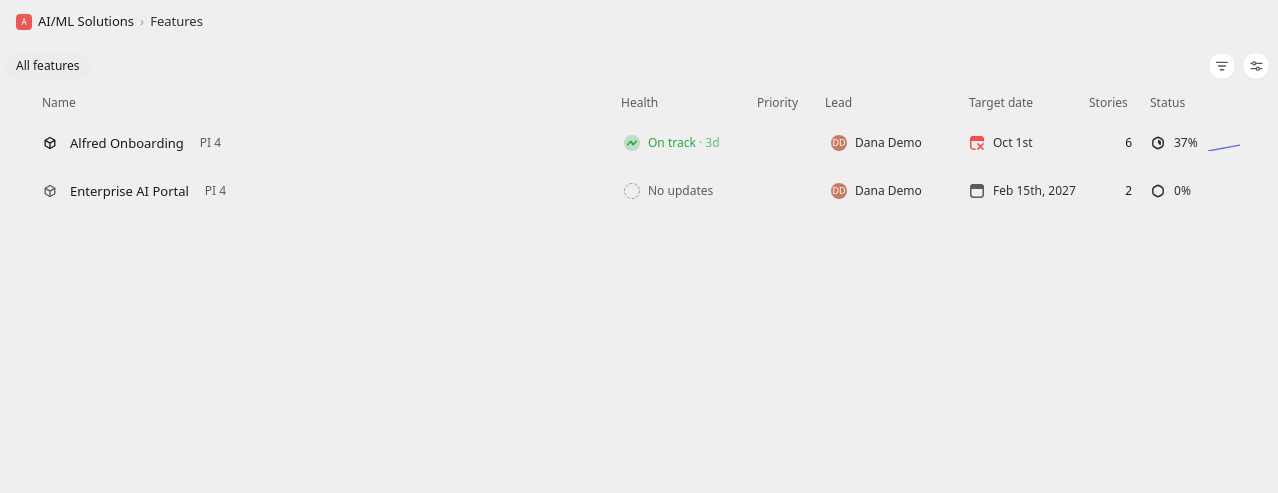
Test: the Filter menu lists the spec's fields in order and filters the rows
This screenshot has width=1278, height=493.
Click the button named "Add filter".
click(1222, 66)  # box 1208,52 -> 1236,80
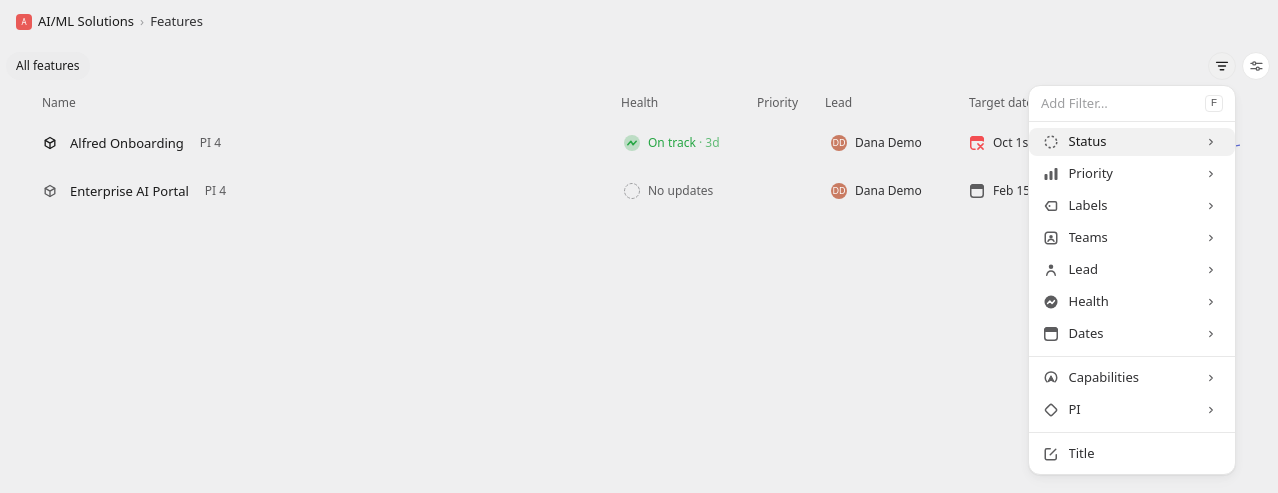
Hover over the menu item "Dates".
mouse_move(1086, 333)  # box 1042,324 -> 1217,342
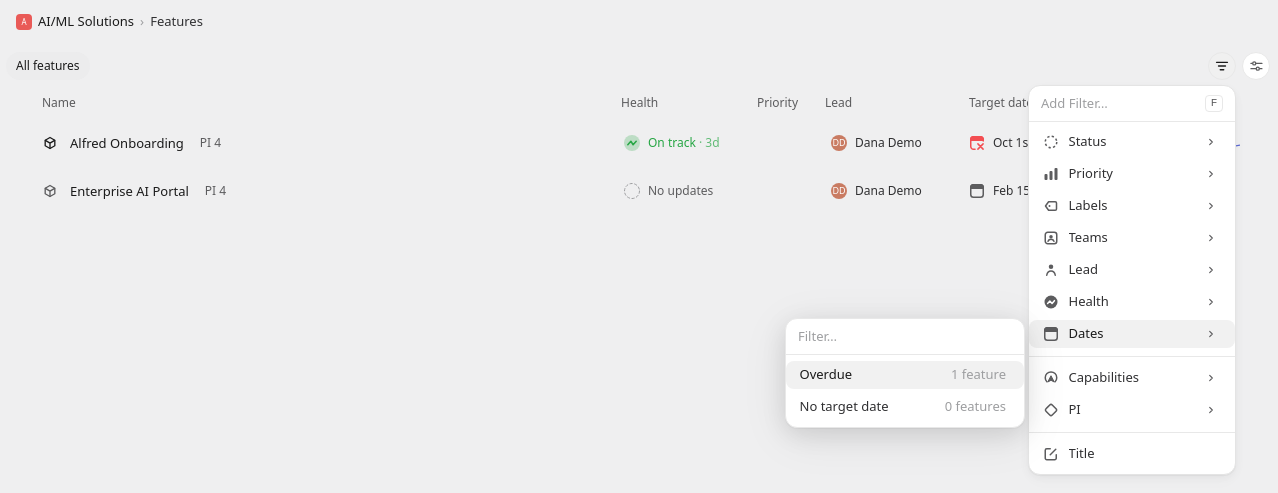
Click the menu item "Overdue 1 feature".
click(826, 374)  # box 800,365 -> 1006,383
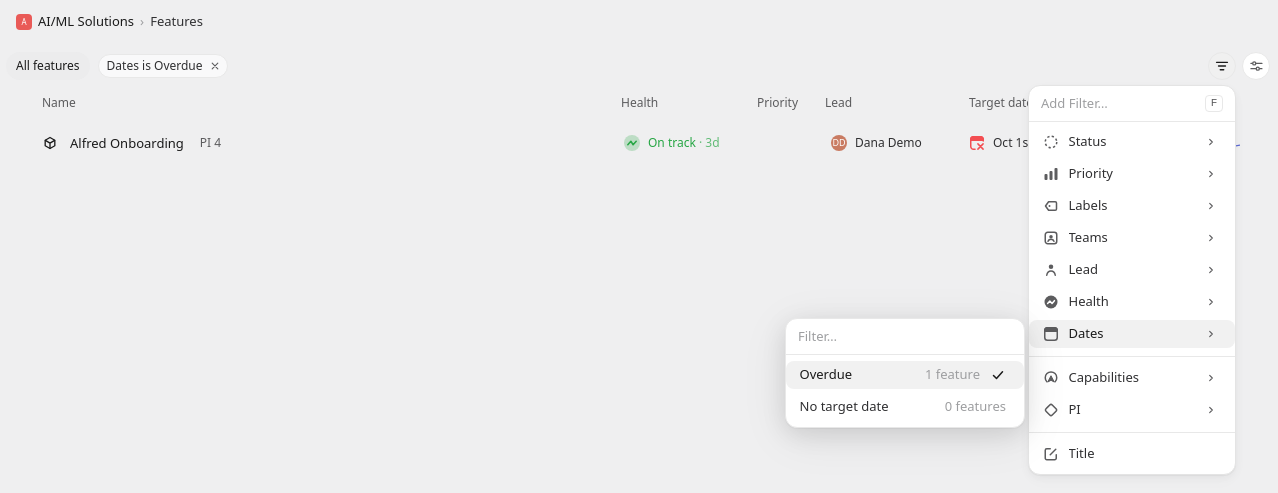
Check: the link "Alfred" is shown, box 43,131 -> 1240,155
Check: the link "Enterprise" is gone
Check: the text "Dates is Overdue" is shown, box 98,54 -> 228,78
